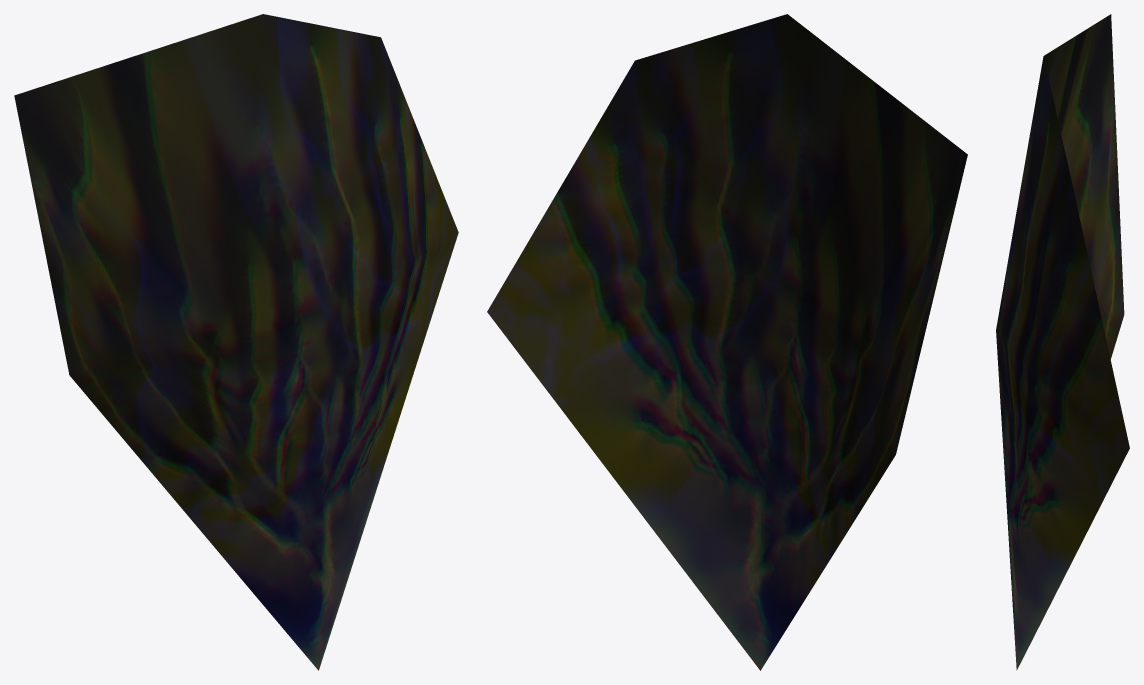
3 renders of one model, left to right at view 1: azimuth 30°, elevation 25°; view 2: azimuth 150°, elevation 25°; view 3: azimuth 270°, elevation 25°, orthographic. The views are drawn at different scales.
Parts seen in each view (by area): view 1: Root_01; view 2: Root_01; view 3: Root_01.
Boxes of the visible parts, bbox=[...] form: Root_01: bbox=[14, 14, 458, 670]; Root_01: bbox=[487, 14, 967, 670]; Root_01: bbox=[996, 14, 1129, 670].
Size of the model in its own units: 1.79 by 2.47 by 0.5019.
